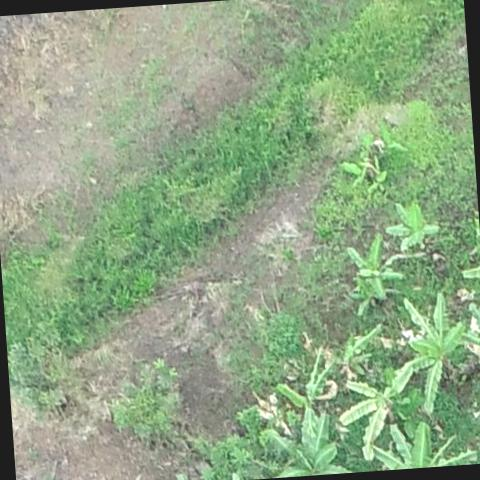Banana-plant: (390, 289, 474, 416), (274, 338, 349, 460), (334, 356, 419, 462), (340, 231, 408, 307), (272, 438, 352, 478), (384, 198, 441, 252)
